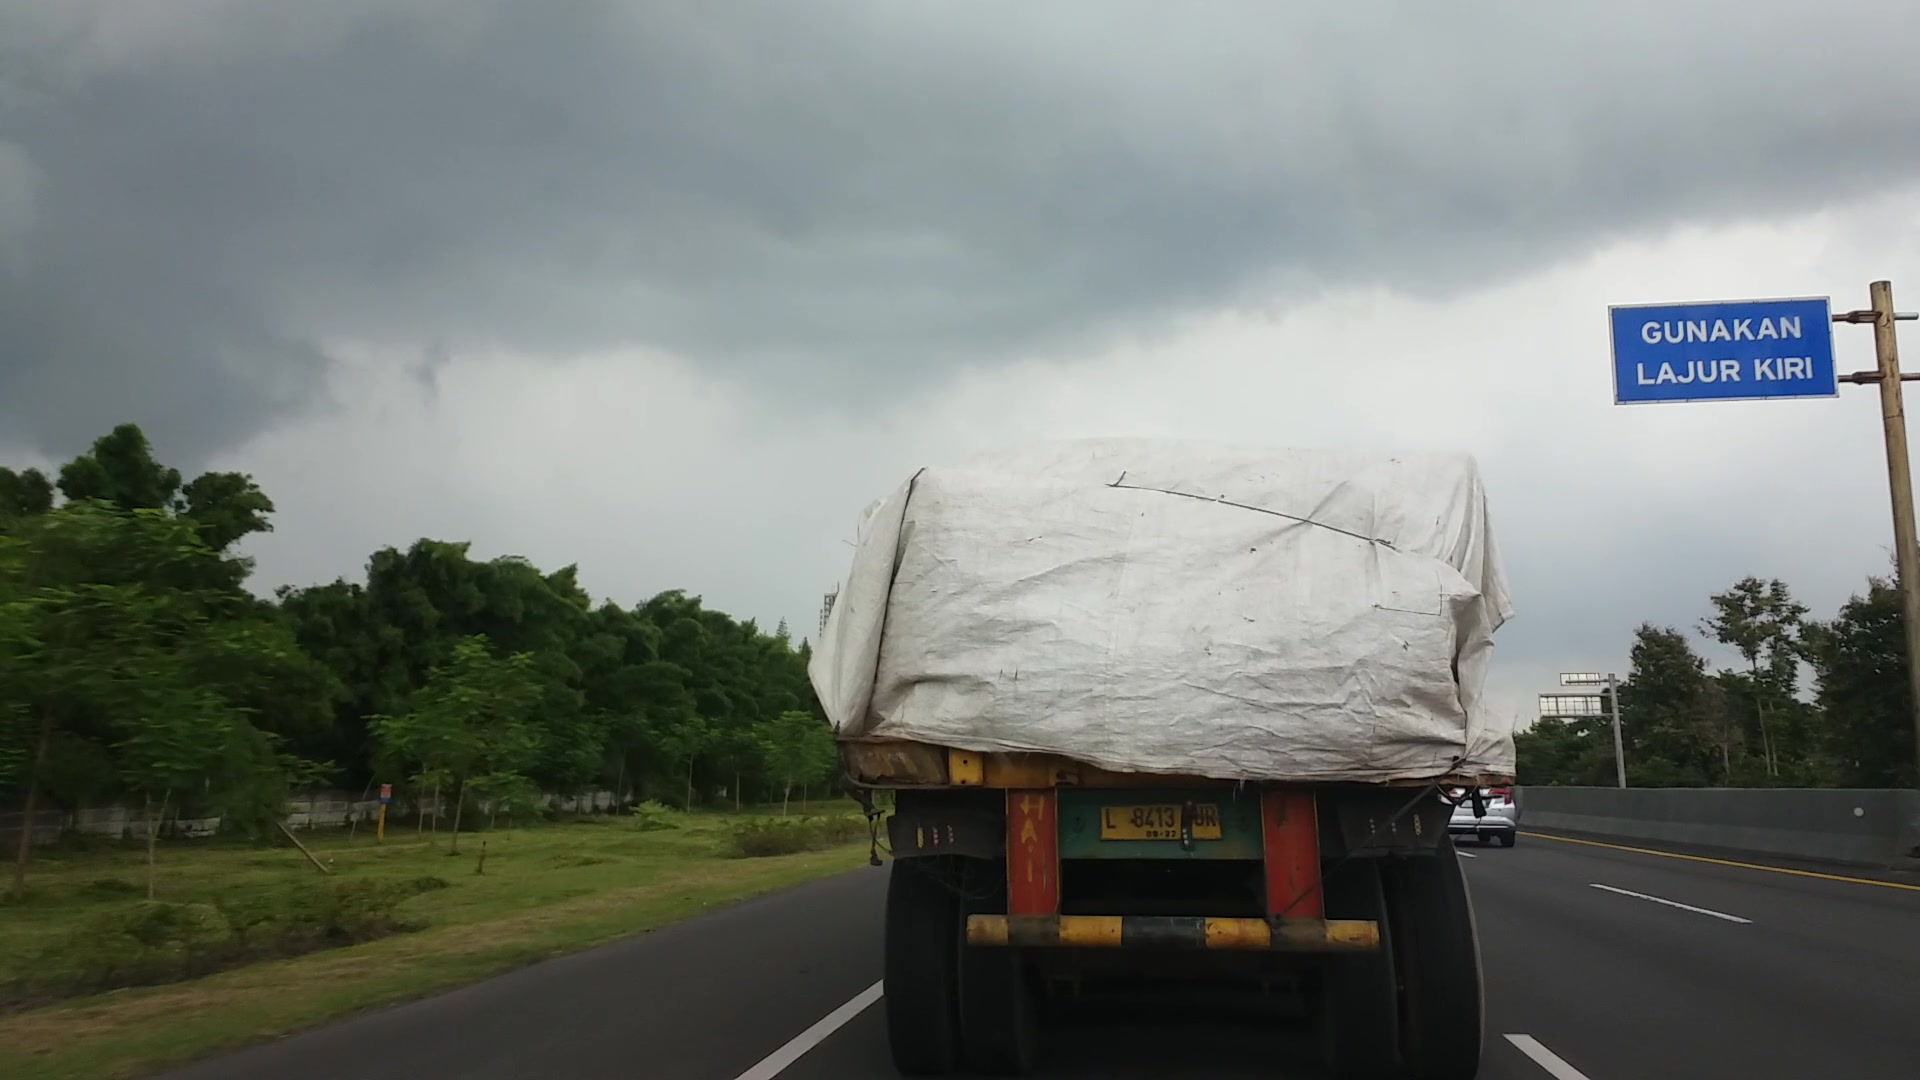plate_positive: (1100, 802, 1221, 841)
